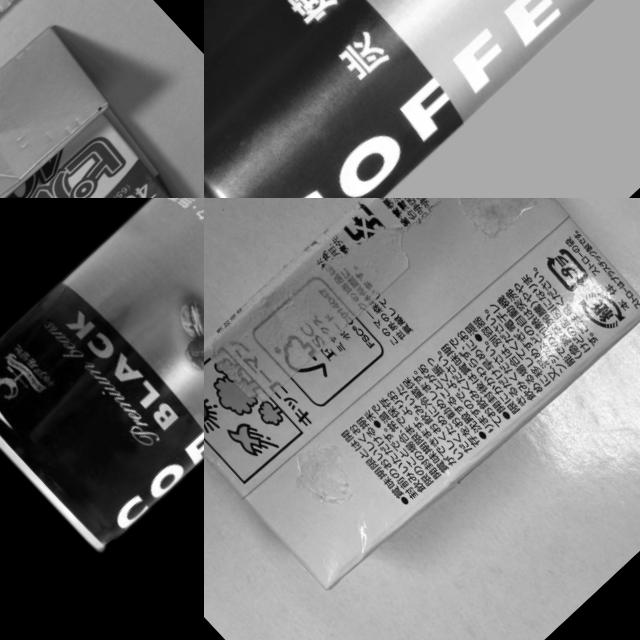Aluminium Foil: (204, 198, 640, 607), (0, 11, 204, 198), (0, 0, 81, 198)
Can: (204, 0, 640, 198), (0, 198, 204, 572)
